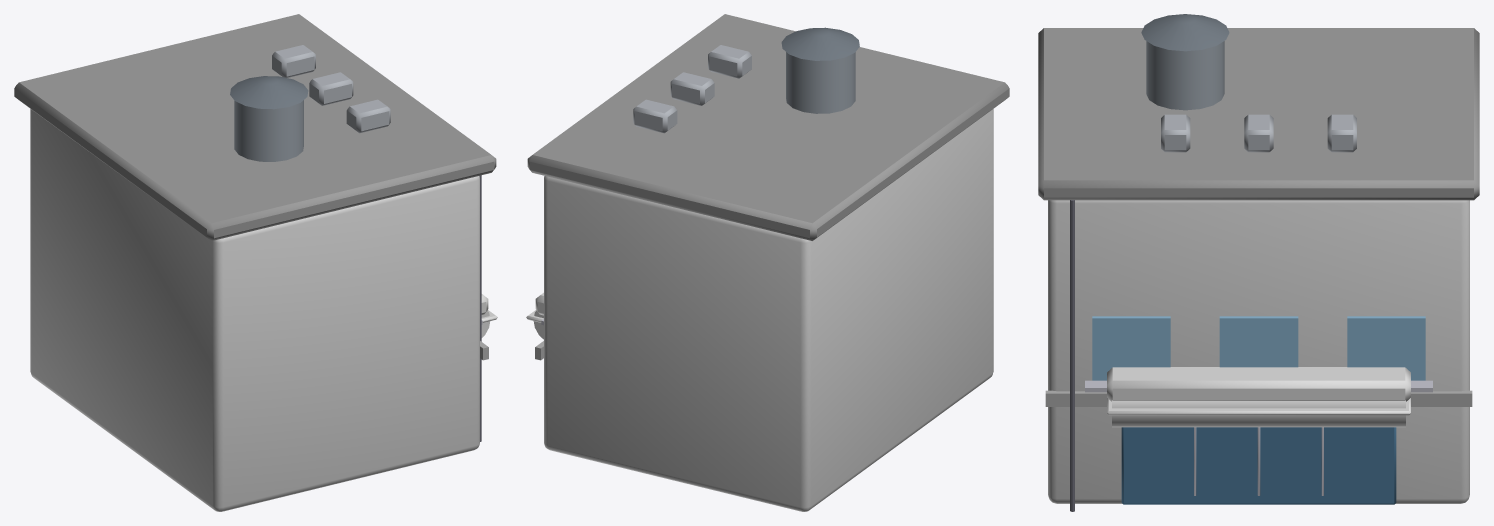
Rendered from bld_0.glb.
3 views of the same model, side by side, from view 1: azimuth 30°, elevation 25°; view 2: azimuth 150°, elevation 25°; view 3: azimuth 270°, elevation 25° (orthographic). The views are drawn at different scales.
Parts seen in each view (by area): view 1: b; view 2: b; view 3: b.
Part boxes in pixels (x1=…): b: x1=14, y1=14, x2=497, y2=511; b: x1=526, y1=14, x2=1009, y2=511; b: x1=1038, y1=14, x2=1479, y2=511.
Bounding box in the file's own units: 8.4 × 9.1 × 9.
